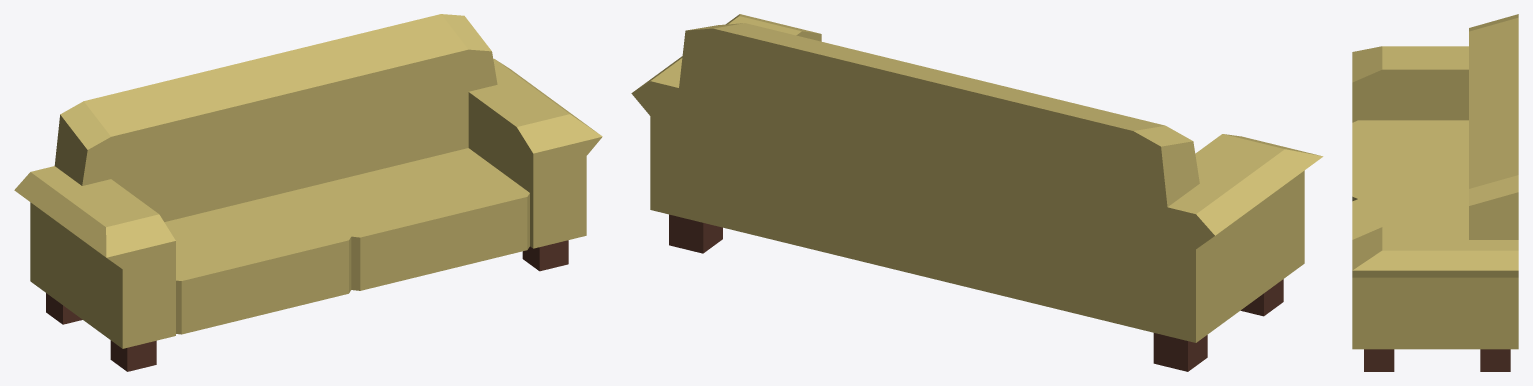
The model's file is sofa.fbx.
3 renders of one model, left to right at view 1: azimuth 30°, elevation 25°; view 2: azimuth 150°, elevation 25°; view 3: azimuth 270°, elevation 25°, orthographic. The views are drawn at different scales.
Parts seen in each view (by area): view 1: Cube; view 2: Cube; view 3: Cube.
Part boxes in pixels (<box>): Cube: <box>14,14,602,371</box>; Cube: <box>631,14,1323,371</box>; Cube: <box>1352,14,1518,371</box>.
Bounding box in the file's own units: 1305 × 497 × 420.
